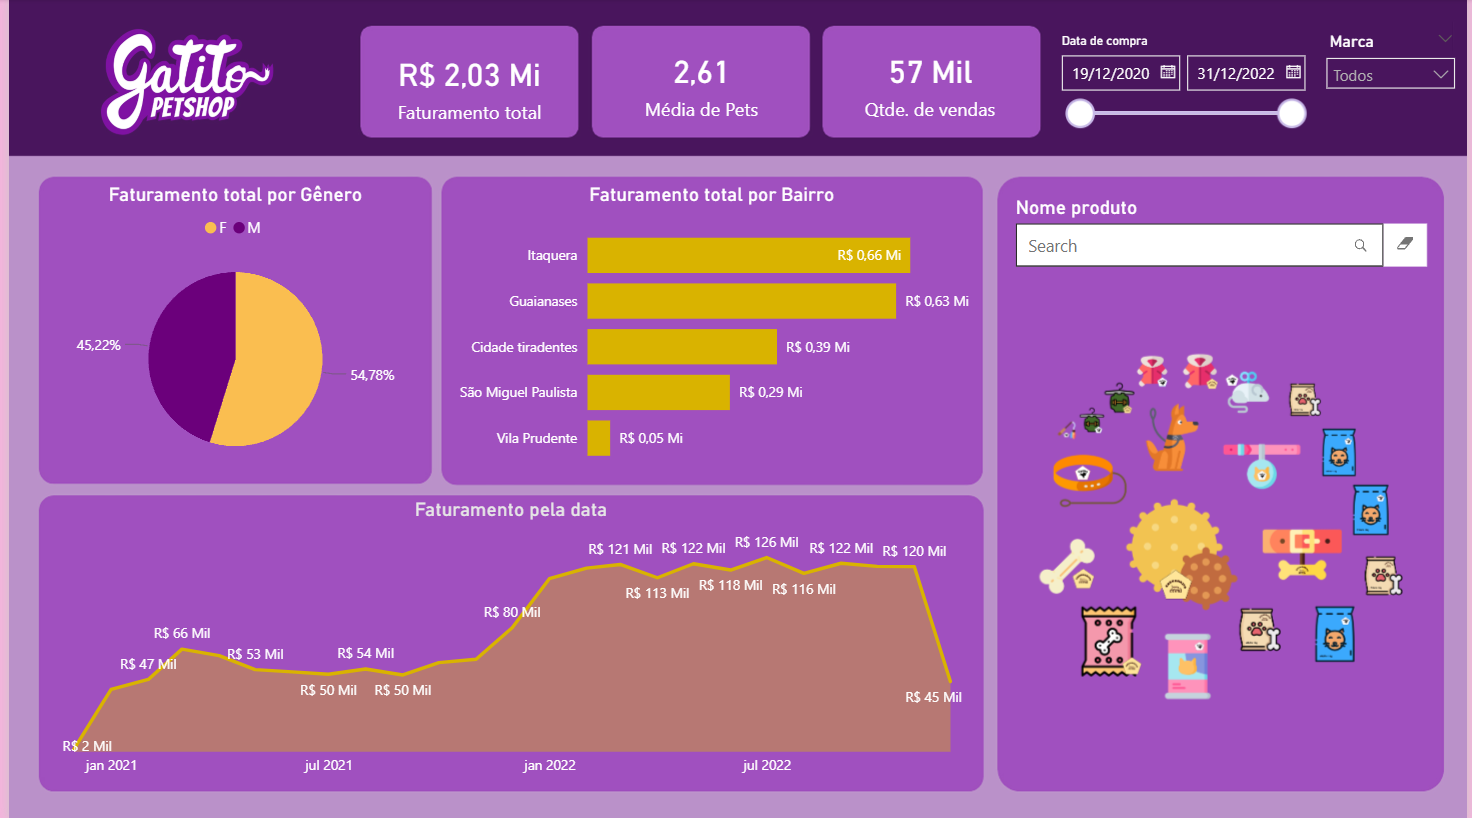

This screenshot's page, from the dashboard's own definition file:
{"tool":"powerbi","page":{"name":"Página 1","canvas":[1280,720],"ordinal":0},"visuals":[{"type":"card","fields":{"Values":["Avg(Clientes.Pets)"]},"box":[512.8,23.7,190.5,99.2],"z":0},{"type":"card","fields":{"Values":["Sum(Vendas.Quantidade)"]},"box":[712.1,23.7,193.2,99.2],"z":1000},{"type":"card","fields":{"Values":["Vendas.Faturamento_Total"]},"box":[309.1,14,190.5,122.9],"z":2000},{"type":"pieChart","fields":{"Category":["Clientes.Gênero"],"Y":["Vendas.Faturamento_Total"]},"box":[29,161.6,339.8,261.7],"z":3000},{"type":"clusteredBarChart","fields":{"Category":["Clientes.Bairro"],"Y":["Vendas.Faturamento total"]},"box":[382,161.6,470.6,261.7],"z":4000},{"type":"areaChart","title":"Faturamento pela data","fields":{"Category":["Vendas.Data de compra.Variation.Hierarquia de datas.Ano","Vendas.Data de compra.Variation.Hierarquia de datas.Trimestre","Vendas.Data de compra.Variation.Hierarquia de datas.Mês","Vendas.Data de compra.Variation.Hierarquia de datas.Dia"],"Y":["Vendas.Faturamento total"]},"box":[29,438.1,823.6,252.9],"z":5000},{"type":"ImageGrid_FC5183B9_926C_45E0_B5F7_0CE9EAF1DA9B","fields":{"ImageURL":["Produtos.Url img"]},"box":[878.9,235.3,371.4,455.7],"z":6000},{"type":"textFilter25A4896A83E0487089E2B90C9AE57C8A","fields":{"field":["Produtos.Nome produto"]},"box":[878.9,173,371.4,110.6],"z":7000},{"type":"slicer","fields":{"Values":["Produtos.Marca"]},"box":[1146.7,23.7,133.5,99.2],"z":8000},{"type":"slicer","fields":{"Values":["Vendas.Data de compra"]},"box":[911.4,25.5,235.3,99.2],"z":9000}]}

Visuals, with their boxes in screenshot pixels (x1, y1, x2, y2), scaled from the page's 1280x720 canvas onto the 1472x818 screenshot:
card - Avg(Clientes.Pets): BBox(590, 27, 809, 140)
card - Sum(Vendas.Quantidade): BBox(819, 27, 1041, 140)
card - Vendas.Faturamento_Total: BBox(355, 16, 575, 156)
pieChart - Clientes.Gênero x Vendas.Faturamento_Total: BBox(33, 184, 424, 481)
clusteredBarChart - Clientes.Bairro x Vendas.Faturamento total: BBox(439, 184, 980, 481)
"Faturamento pela data" areaChart: BBox(33, 498, 980, 785)
ImageGrid_FC5183B9_926C_45E0_B5F7_0CE9EAF1DA9B - Produtos.Url img: BBox(1011, 267, 1438, 785)
textFilter25A4896A83E0487089E2B90C9AE57C8A - Produtos.Nome produto: BBox(1011, 197, 1438, 322)
slicer - Produtos.Marca: BBox(1319, 27, 1471, 140)
slicer - Vendas.Data de compra: BBox(1048, 29, 1319, 142)
